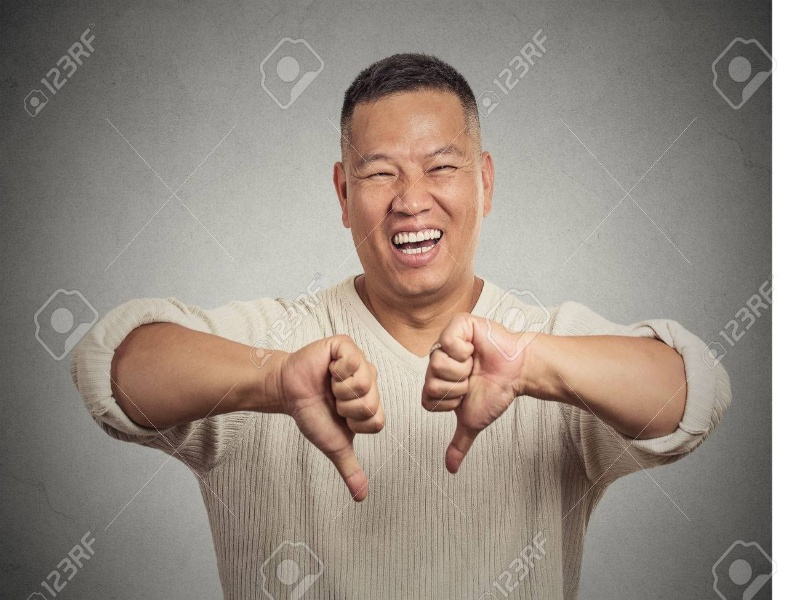smile: (347, 93, 480, 290)
